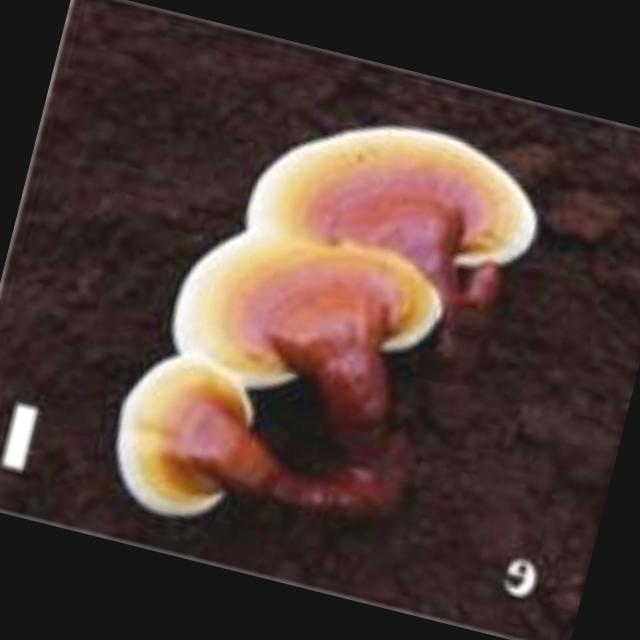ganoderma: (157, 205, 456, 435), (239, 90, 559, 304), (99, 342, 266, 534)
